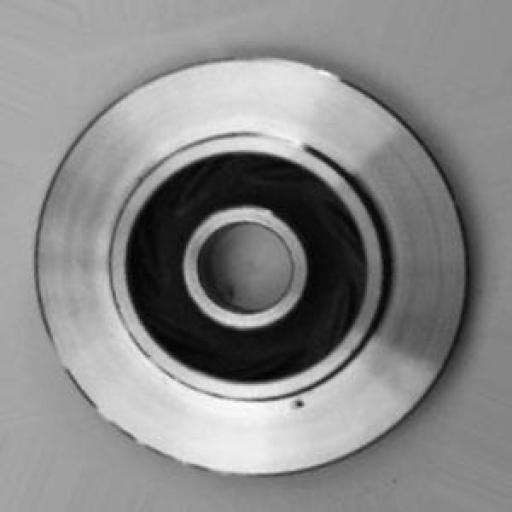defect: (271, 390, 315, 423)
